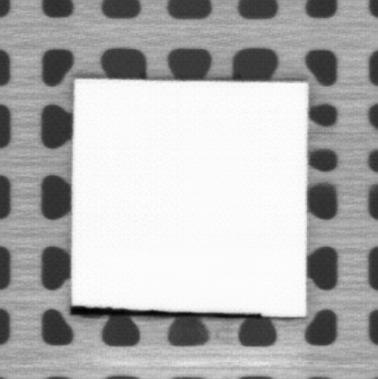DIE_BROKEN: (69, 304, 264, 321)
